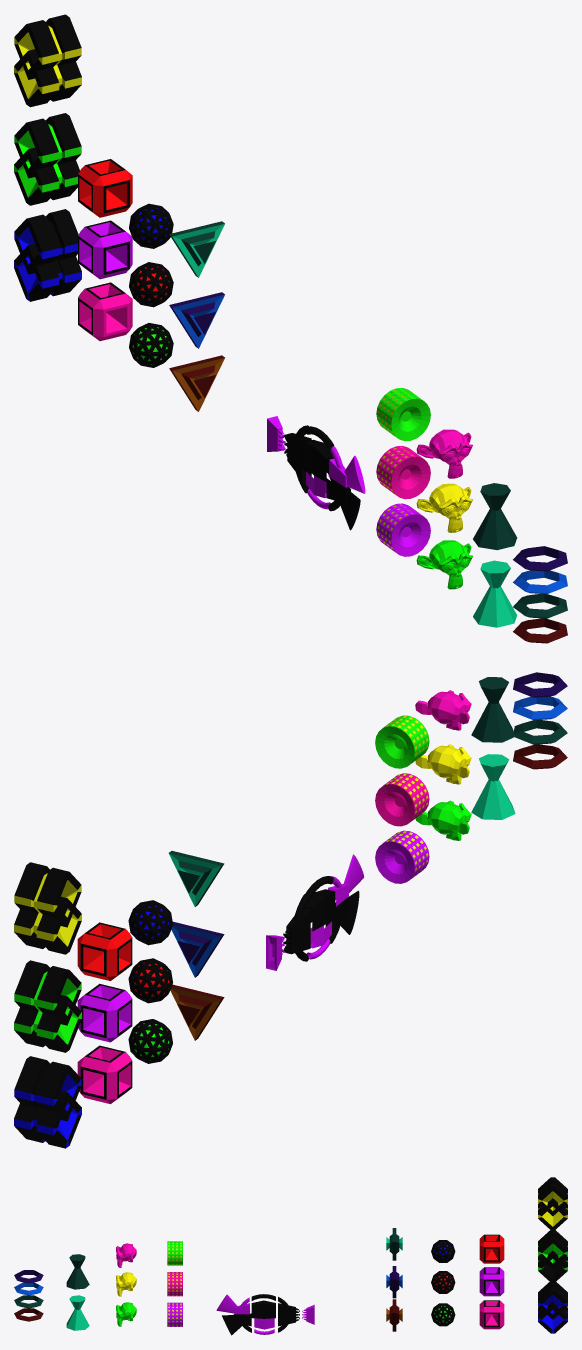
Rendered from objeler.fbx.
3 renders of one model, top to bottom at view 1: azimuth 30°, elevation 25°; view 2: azimuth 150°, elevation 25°; view 3: azimuth 270°, elevation 25°, orthographic. The views are drawn at different scales.
Visible parts, largest first — view 1: Cube.005, Cube.004, Cube.001, Cube, Cube.003, Cube.002, Cylinder.001, Cylinder.004, Cylinder.005, Cube.006, Cone, Cone.001 (+15 smaller); view 2: Cube.005, Cube.001, Cube.004, Cube.003, Cube, Cube.002, Cylinder.004, Cylinder.005, Cylinder.001, Cube.006, Cone.001, Cone (+15 smaller); view 3: Cube.005, Cube.004, Cube.001, Cube.006, Cube.002, Cube, Cube.003, Cone.001, Cone, Cube.007, Icosphere, Icosphere.001 (+16 smaller).
Boxes of the visible parts, x1,y1,x2,y2 form: Cube.005: (14, 14, 81, 107); Cube.004: (14, 113, 81, 205); Cube.001: (14, 209, 81, 301); Cube: (78, 282, 132, 341); Cube.003: (78, 159, 132, 217); Cube.002: (78, 220, 132, 279); Cylinder.001: (376, 503, 430, 556); Cylinder.004: (376, 446, 430, 499); Cylinder.005: (376, 388, 430, 441); Cube.006: (304, 426, 360, 530); Cone: (473, 560, 517, 627); Cone.001: (473, 483, 517, 550); Cube.005: (14, 862, 81, 954); Cube.001: (14, 1056, 81, 1148); Cube.004: (14, 960, 81, 1052); Cube.003: (77, 922, 132, 980); Cube: (77, 1045, 132, 1104); Cube.002: (77, 983, 132, 1042); Cylinder.004: (375, 773, 429, 826); Cylinder.005: (375, 715, 429, 768); Cylinder.001: (375, 830, 429, 883); Cube.006: (305, 876, 359, 943); Cone.001: (471, 677, 515, 742); Cone: (471, 754, 515, 819); Cube.005: (538, 1177, 567, 1230); Cube.004: (538, 1230, 567, 1282); Cube.001: (538, 1282, 567, 1333); Cube.006: (222, 1294, 275, 1335); Cube.002: (479, 1267, 504, 1296); Cube: (479, 1300, 504, 1329); Cube.003: (479, 1234, 504, 1263); Cone.001: (66, 1254, 89, 1289); Cone: (66, 1295, 89, 1330); Cube.007: (278, 1297, 299, 1332); Icosphere: (431, 1303, 455, 1326); Icosphere.001: (431, 1271, 455, 1293).
Bounding box in the file's own units: 273 × 1387 × 4546.
